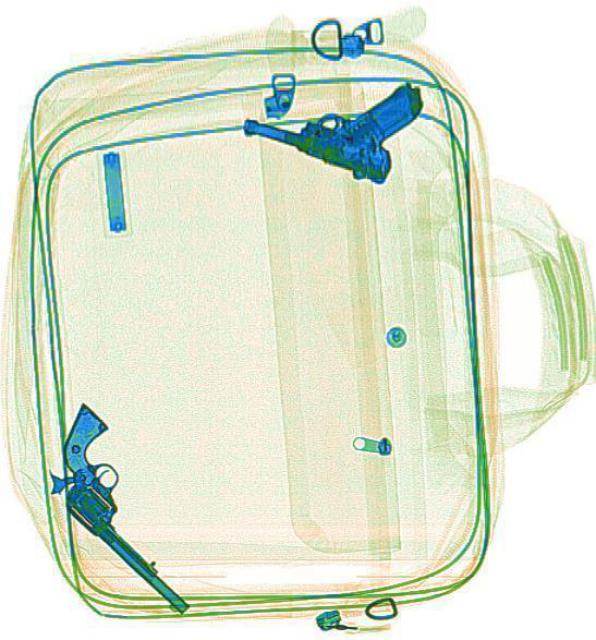Gun: (15, 398, 240, 616), (236, 35, 428, 188)
